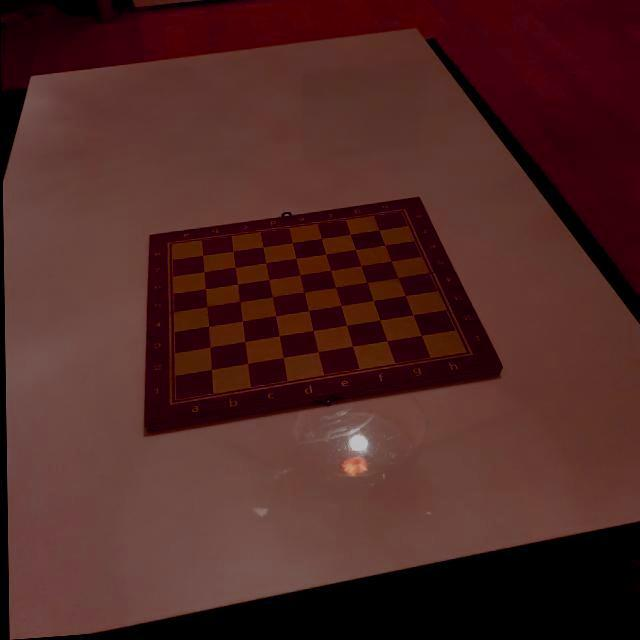chess-table-corners: (462, 354, 477, 368), (158, 240, 175, 252), (162, 400, 178, 410), (397, 212, 410, 221)
